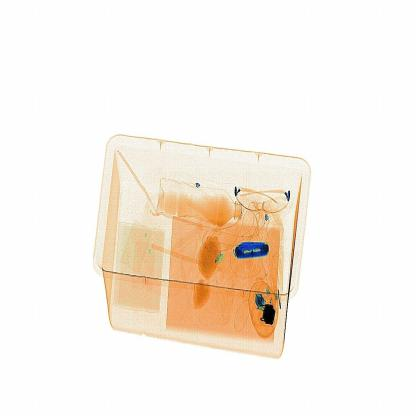scissors: (231, 236, 280, 264)
